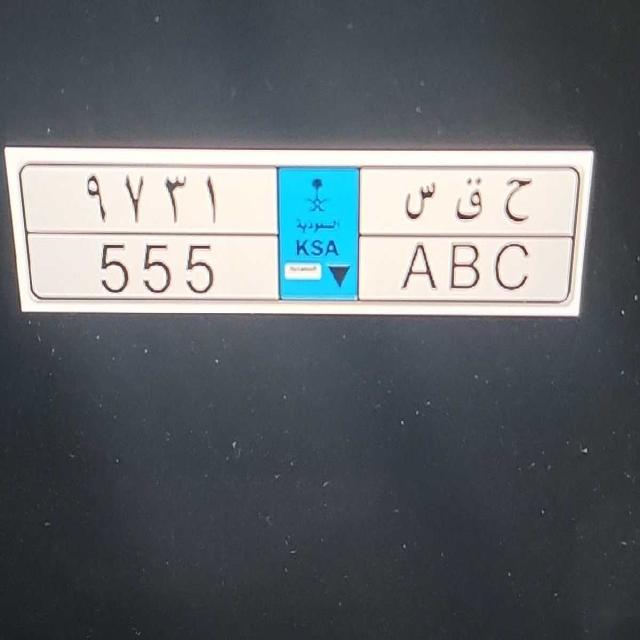license_plate: (59, 234, 559, 313)
